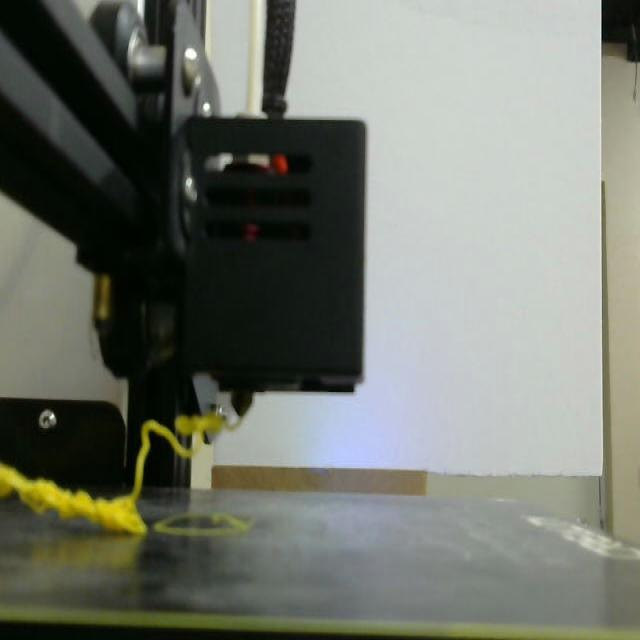spaghetti: (0, 420, 194, 534), (175, 413, 225, 435)
